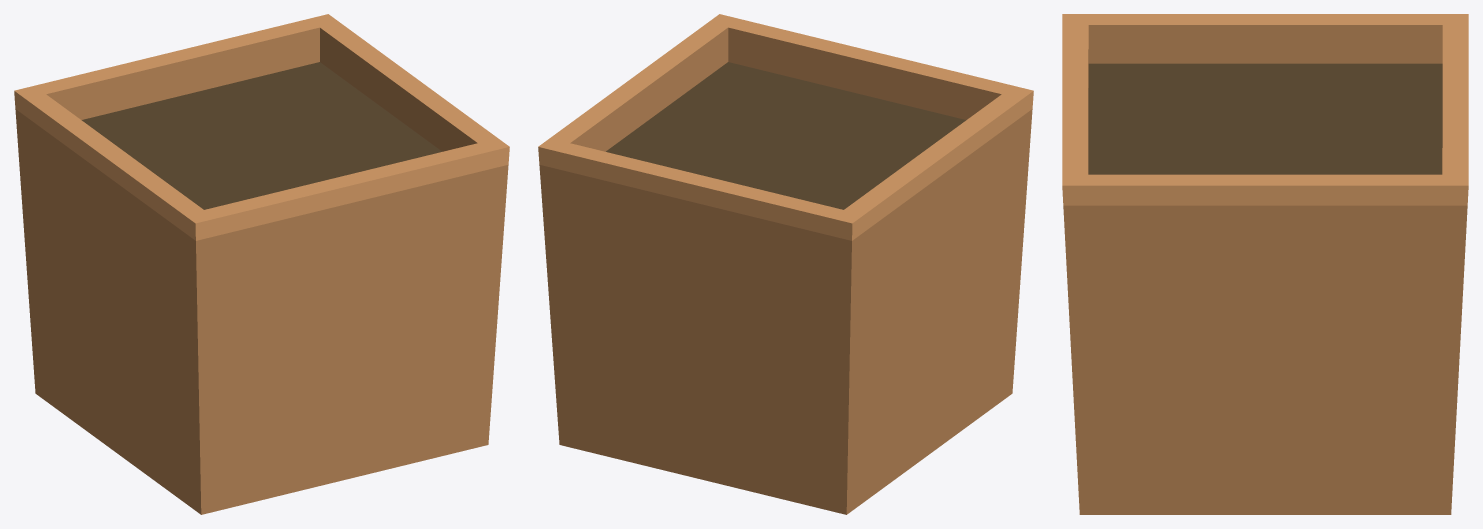
File: italy_planter_square_1.dae
3 renders of one model, left to right at view 1: azimuth 30°, elevation 25°; view 2: azimuth 150°, elevation 25°; view 3: azimuth 270°, elevation 25°, orthographic. The views are drawn at different scales.
Visible parts, largest first — view 1: Colmesh-1; view 2: Colmesh-1; view 3: Colmesh-1.
Boxes of the visible parts, <box> form: Colmesh-1: <box>14,14,509,514</box>; Colmesh-1: <box>538,14,1033,514</box>; Colmesh-1: <box>1062,14,1468,514</box>.
Size of the model in its own units: 0.5627 by 0.5627 by 0.5141.
